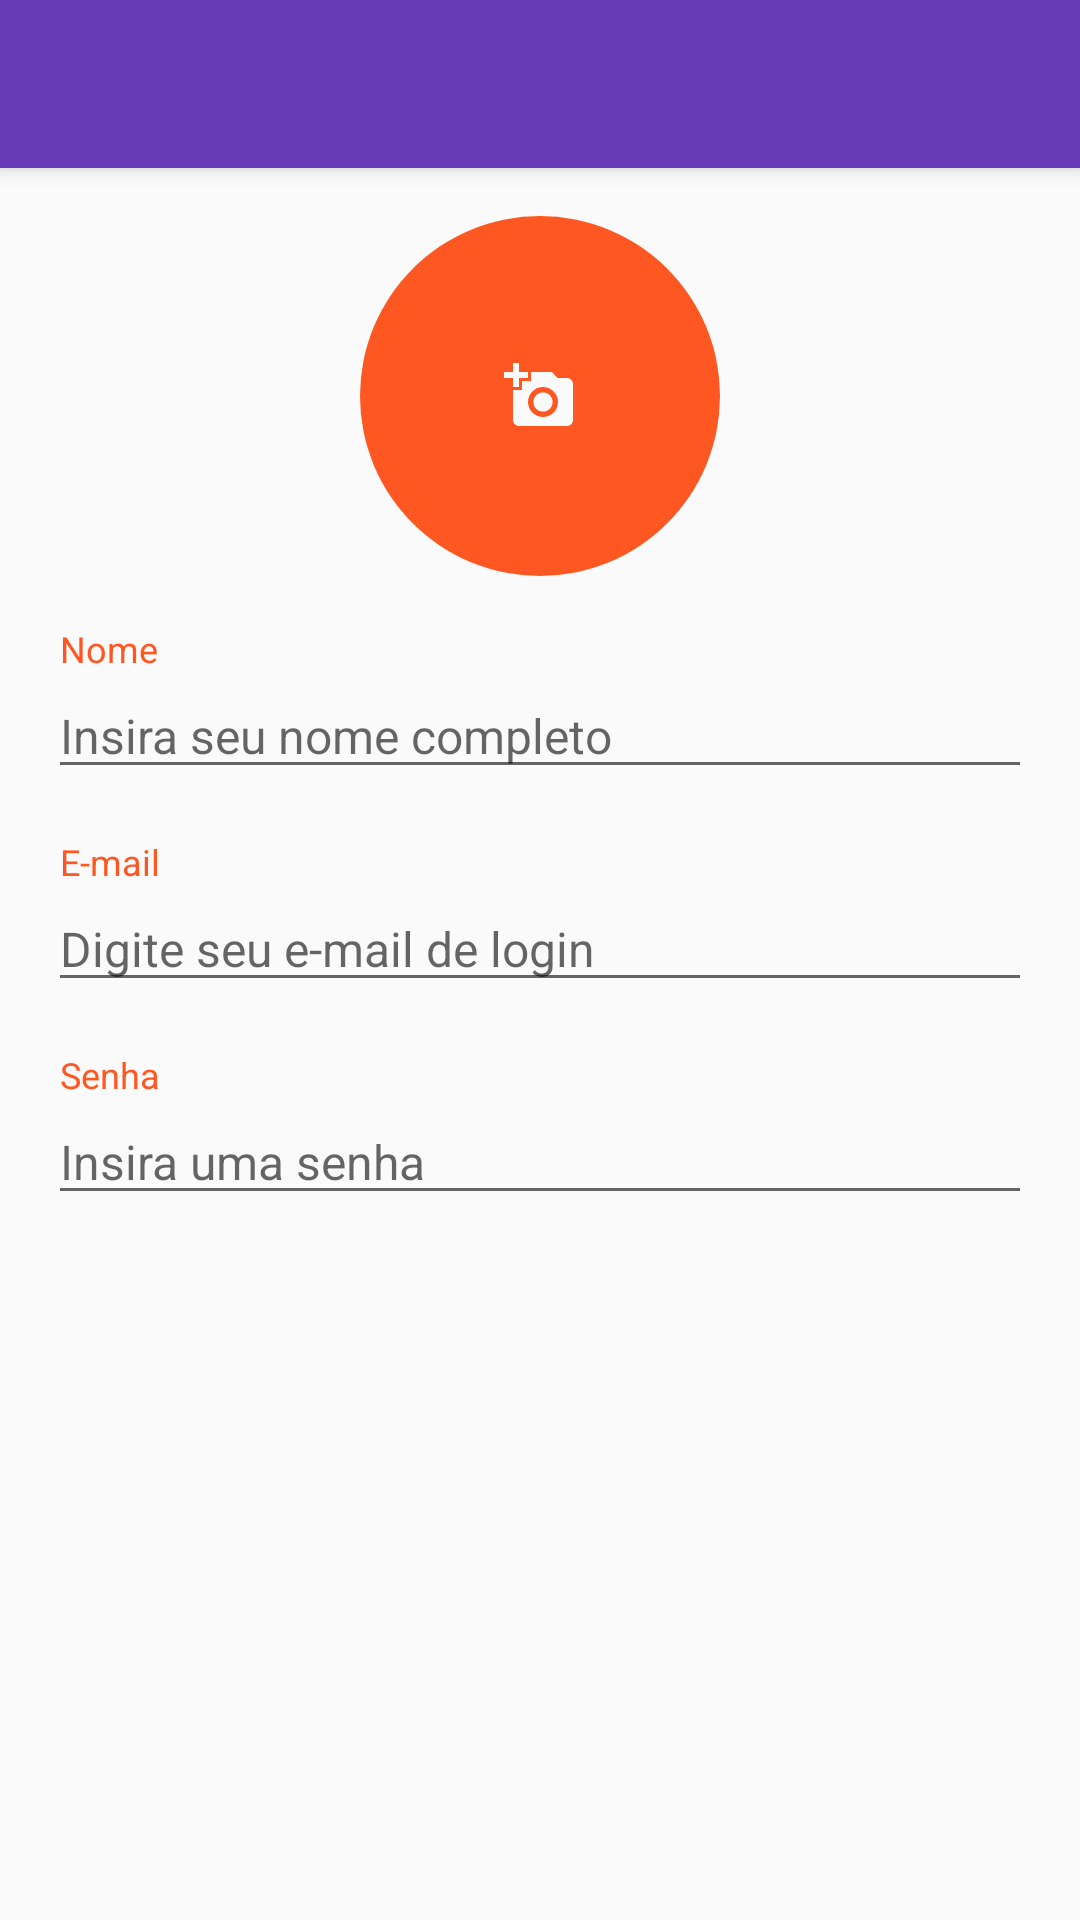

Named icons in this screenshot (1080px×1920px) and their centers, (x,y):
add photo: (540,396)
